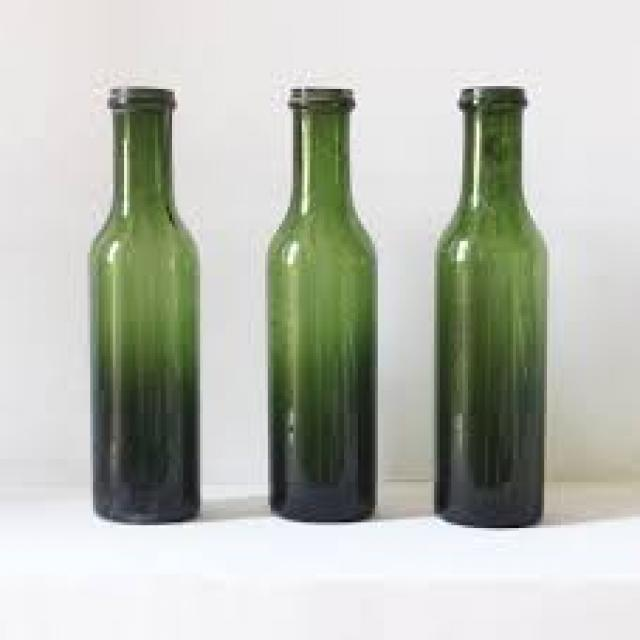Glass-Non-Biodegradable but Recyclable-: (87, 83, 202, 522)
